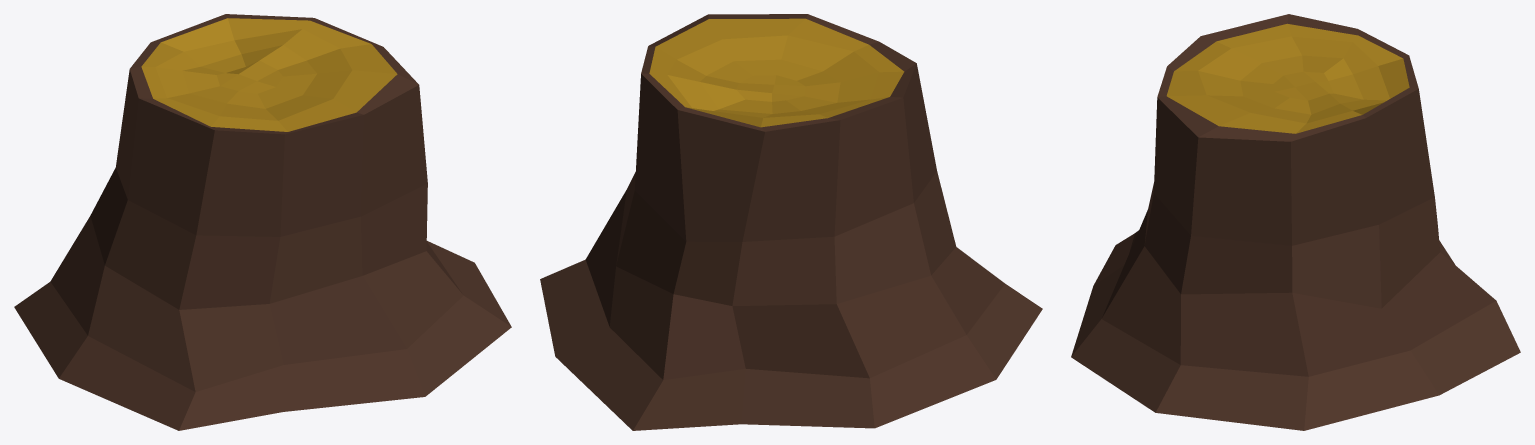
The model's file is stump_002.fbx.
The picture shows the model from 3 angles, left to right: view 1: azimuth 30°, elevation 25°; view 2: azimuth 150°, elevation 25°; view 3: azimuth 270°, elevation 25°; orthographic projection. The views are drawn at different scales.
Parts seen in each view (by area): view 1: stump_002; view 2: stump_002; view 3: stump_002.
Part boxes in pixels (<box>): stump_002: <box>14,14,511,430</box>; stump_002: <box>540,14,1042,430</box>; stump_002: <box>1071,14,1520,430</box>.
Bounding box in the file's own units: 552 × 335 × 508.
